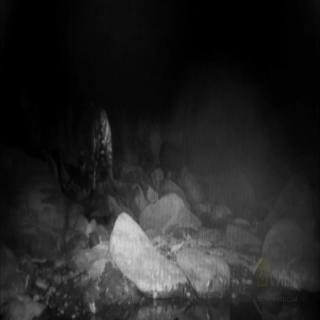Tiger: (92, 104, 115, 190)
